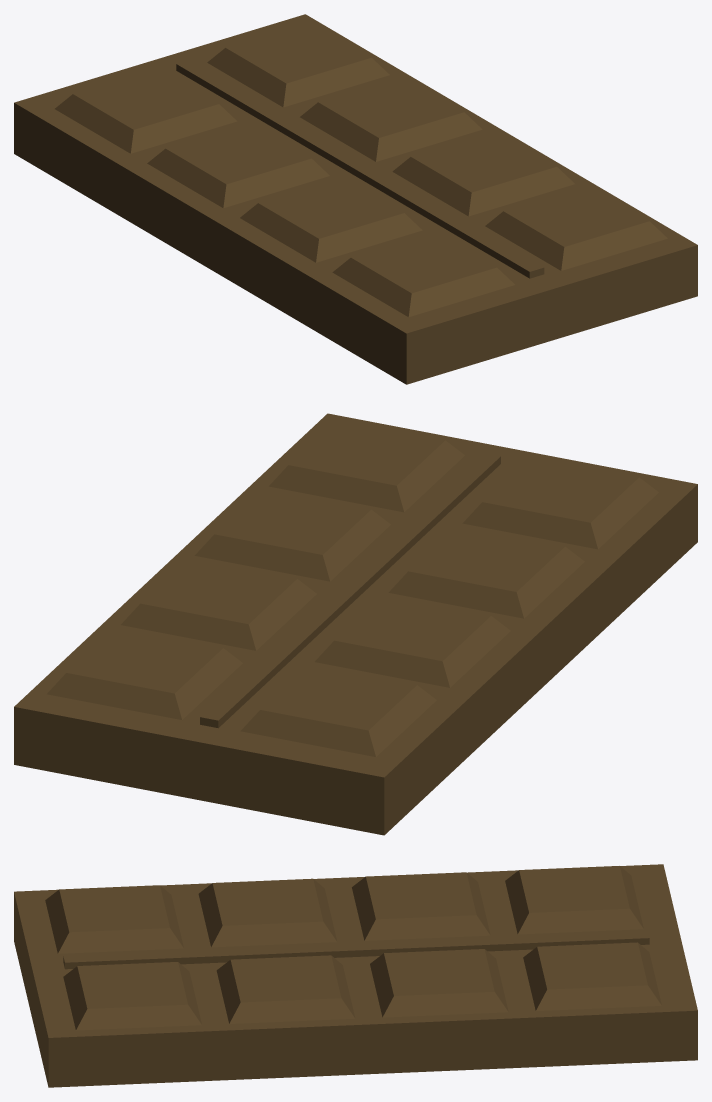
Rendered from chocolate.glb.
3 renders of one model, top to bottom at view 1: azimuth 30°, elevation 25°; view 2: azimuth 150°, elevation 25°; view 3: azimuth 270°, elevation 25°, orthographic. The views are drawn at different scales.
Visible parts, largest first — view 1: Chocolate; view 2: Chocolate; view 3: Chocolate.
Boxes of the visible parts, x1,y1,x2,y2 form: Chocolate: (14,14,697,384); Chocolate: (14,413,697,835); Chocolate: (14,864,697,1087).
Size of the model in its own units: 2.68 by 0.4707 by 4.46.
